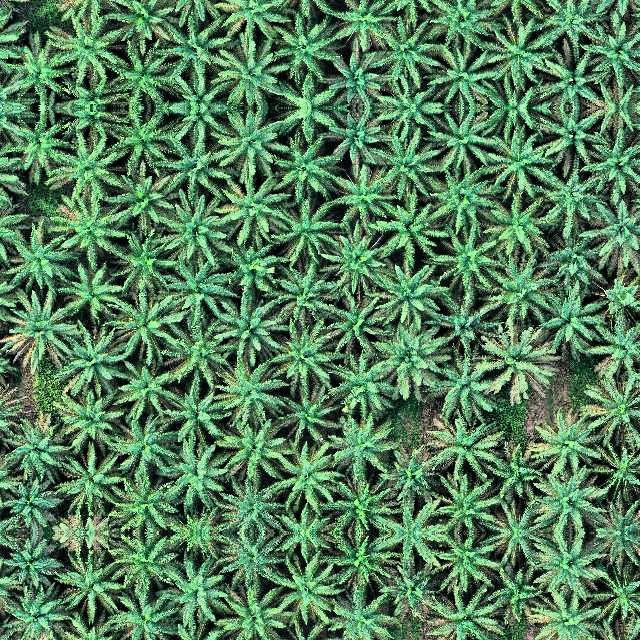Kelapa_Sawit: (478, 318, 558, 403), (370, 319, 450, 402), (58, 321, 132, 400), (426, 287, 501, 364), (50, 194, 131, 265), (427, 346, 501, 423), (215, 172, 292, 245), (375, 258, 452, 331), (535, 283, 607, 360), (6, 290, 75, 370), (158, 439, 234, 511), (158, 554, 234, 626), (158, 130, 232, 202), (158, 12, 232, 84), (111, 289, 182, 363), (530, 468, 610, 532), (530, 533, 610, 597), (372, 197, 446, 266), (216, 107, 291, 175), (216, 39, 291, 107), (161, 258, 238, 324), (272, 317, 338, 394), (219, 414, 291, 484), (431, 225, 504, 294), (273, 441, 343, 511), (273, 554, 343, 624), (55, 449, 128, 516), (55, 550, 128, 617), (272, 133, 341, 203), (272, 11, 341, 81), (536, 164, 604, 235), (326, 354, 398, 421), (214, 294, 282, 363), (53, 132, 120, 202), (536, 407, 603, 477), (53, 12, 120, 82), (5, 107, 71, 178), (5, 37, 71, 108), (322, 476, 404, 533), (322, 533, 404, 590), (485, 255, 551, 325), (373, 130, 439, 200), (373, 14, 439, 84), (430, 416, 502, 480), (108, 414, 179, 478), (167, 319, 236, 384), (56, 389, 126, 453), (329, 414, 399, 478), (165, 378, 229, 446), (214, 360, 284, 422), (114, 227, 179, 293), (108, 107, 175, 171), (163, 199, 227, 266), (108, 43, 175, 107), (428, 166, 496, 229), (219, 581, 291, 640), (326, 289, 390, 355), (487, 194, 554, 257), (487, 129, 550, 196), (487, 19, 550, 86), (112, 165, 175, 231), (431, 107, 496, 170), (431, 45, 496, 108), (543, 226, 605, 292), (272, 201, 340, 261), (431, 476, 502, 533), (431, 533, 502, 590), (6, 226, 70, 289), (325, 226, 387, 290), (430, 585, 502, 640), (110, 476, 179, 533), (110, 533, 179, 590), (113, 361, 178, 420), (331, 167, 395, 226), (107, 587, 178, 640), (329, 587, 399, 640), (274, 388, 341, 443), (61, 263, 123, 322), (219, 482, 290, 533), (219, 533, 290, 584), (535, 588, 602, 640), (9, 420, 70, 477), (383, 447, 445, 503), (383, 562, 445, 618), (589, 381, 639, 450), (488, 442, 546, 501), (488, 565, 546, 624), (536, 0, 604, 50), (276, 264, 335, 321), (222, 242, 283, 297), (542, 107, 603, 162), (542, 53, 603, 108), (3, 475, 63, 530), (3, 536, 63, 591), (428, 0, 496, 48), (214, 0, 291, 42), (324, 114, 387, 165), (324, 50, 387, 101), (8, 588, 69, 640), (589, 131, 639, 193), (589, 21, 639, 83), (111, 0, 174, 49), (595, 200, 640, 268), (331, 0, 395, 47), (597, 445, 640, 500), (597, 566, 640, 621), (601, 321, 640, 380), (601, 271, 640, 324), (56, 612, 126, 640), (49, 0, 130, 20), (168, 107, 222, 136), (168, 79, 222, 108), (601, 496, 639, 532), (601, 533, 639, 569), (165, 619, 229, 640), (486, 0, 553, 20), (65, 107, 115, 133), (65, 81, 115, 107), (372, 0, 446, 17), (589, 615, 639, 640), (273, 622, 340, 640), (163, 0, 227, 15), (272, 0, 340, 13), (594, 0, 639, 14)
